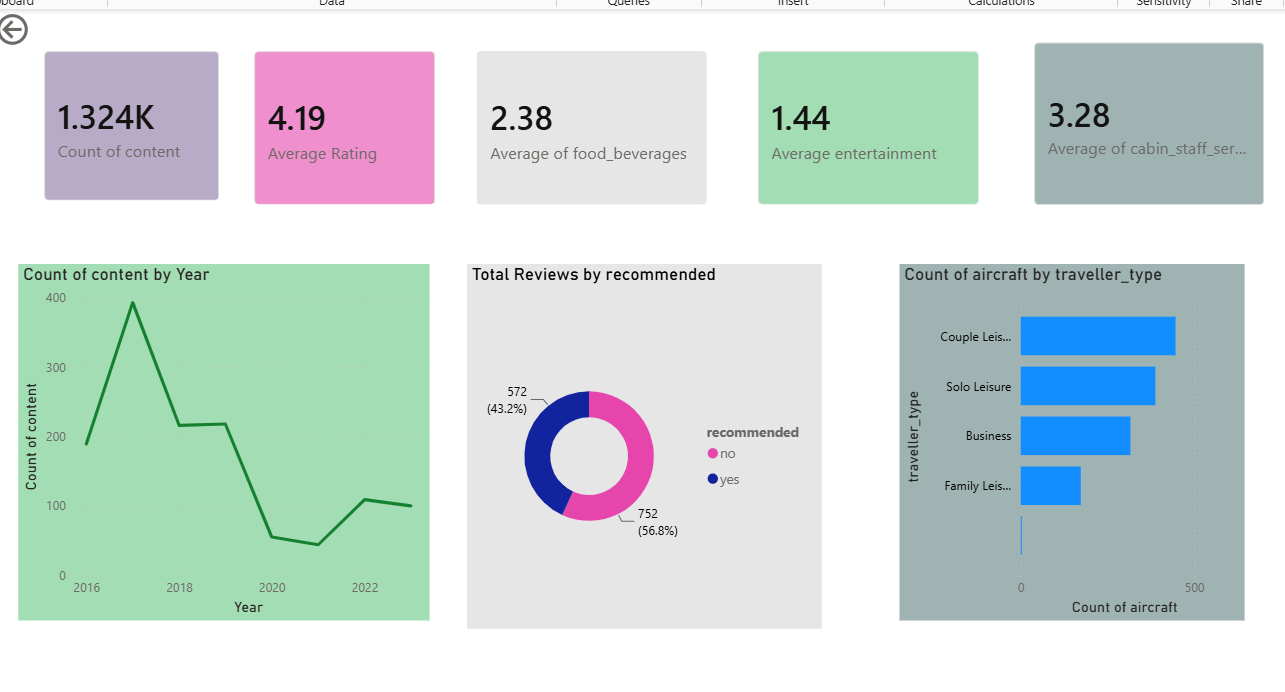

What the dashboard file says about the page in this screenshot:
{"tool":"powerbi","page":{"name":"Executive Overview Dashboard","canvas":[1280,720],"ordinal":0},"visuals":[{"type":"cardVisual","fields":{"Data":["CountNonNull(ba_reviews.content)"]},"box":[34.2,24.5,205.4,181],"z":0},{"type":"cardVisual","fields":{"Data":["ba_reviews.Average Rating"]},"box":[239.7,24.5,211.6,184.6],"z":1000},{"type":"cardVisual","fields":{"Data":["ba_reviews.Average of food_beverages"]},"box":[457.3,24.5,259.2,184.6],"z":2000},{"type":"cardVisual","fields":{"Data":["ba_reviews.Average entertainment"]},"box":[732.5,24.5,250.7,184.6],"z":3000},{"type":"lineChart","fields":{"Category":["ba_reviews.date.Variation.Date Hierarchy.Year","ba_reviews.date.Variation.Date Hierarchy.Month"],"Y":["CountNonNull(ba_reviews.content)"]},"box":[25.7,249.5,415.8,338.7],"z":5000},{"type":"donutChart","fields":{"Category":["ba_reviews.recommended"],"Y":["ba_reviews.Total Reviews"]},"box":[464.7,249.5,347.3,357.1],"z":6000},{"type":"actionButton","box":[0,0,100,40],"z":7000},{"type":"cardVisual","fields":{"Data":["ba_reviews.Average of cabin_staff_service"]},"box":[1002.7,15.9,259.2,193.2],"z":8000},{"type":"clusteredBarChart","fields":{"Category":["ba_reviews.traveller_type"],"Y":["CountNonNull(ba_reviews.aircraft)"]},"box":[887.8,249.5,337.5,348.5],"z":9000}]}

Visuals, with their boxes on the page's 1280x720 design canvas (x1, y1, x2, y2). These are canvas units, not pixel positions in the 1285x692 screenshot, which may show the page scaled, cropped or inside an application window:
cardVisual - CountNonNull(ba_reviews.content): (34, 24, 240, 206)
cardVisual - ba_reviews.Average Rating: (240, 24, 451, 209)
cardVisual - ba_reviews.Average of food_beverages: (457, 24, 716, 209)
cardVisual - ba_reviews.Average entertainment: (732, 24, 983, 209)
lineChart - ba_reviews.date.Variation.Date Hierarchy.Year x ba_reviews.date.Variation.Date Hierarchy.Month: (26, 250, 442, 588)
donutChart - ba_reviews.recommended x ba_reviews.Total Reviews: (465, 250, 812, 607)
actionButton: (0, 0, 100, 40)
cardVisual - ba_reviews.Average of cabin_staff_service: (1003, 16, 1262, 209)
clusteredBarChart - ba_reviews.traveller_type x CountNonNull(ba_reviews.aircraft): (888, 250, 1225, 598)
